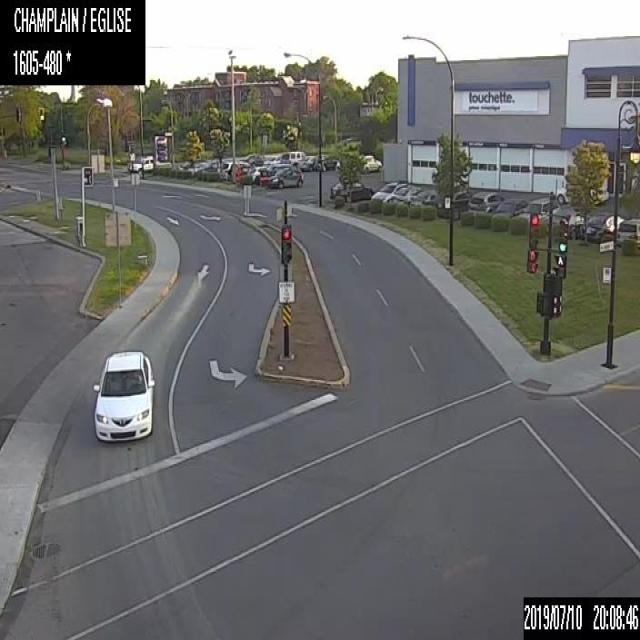pedestrian: (549, 190, 554, 203)
vehicle: (90, 347, 156, 442), (582, 211, 624, 241), (549, 205, 586, 238), (557, 182, 608, 204), (436, 190, 470, 220), (329, 178, 372, 200), (519, 197, 560, 219), (266, 162, 303, 186), (467, 190, 504, 211), (369, 181, 406, 201), (616, 216, 639, 248), (492, 197, 528, 215), (127, 155, 158, 173), (391, 184, 421, 201), (409, 190, 437, 207), (226, 161, 251, 180), (246, 165, 270, 183), (360, 153, 381, 173), (313, 153, 339, 169), (280, 150, 304, 165), (188, 160, 211, 174), (297, 154, 316, 170), (197, 160, 219, 172), (220, 160, 232, 180), (180, 157, 195, 169), (263, 155, 281, 165), (236, 152, 254, 162), (249, 155, 263, 164), (157, 149, 167, 161)
